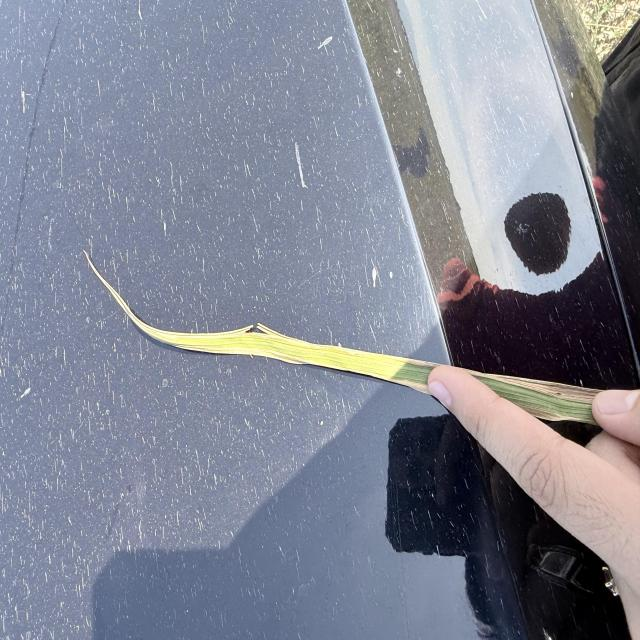Chay bia la: (84, 251, 436, 398), (465, 370, 605, 401), (257, 320, 346, 351), (338, 347, 444, 368), (164, 324, 252, 338), (527, 410, 597, 423)
